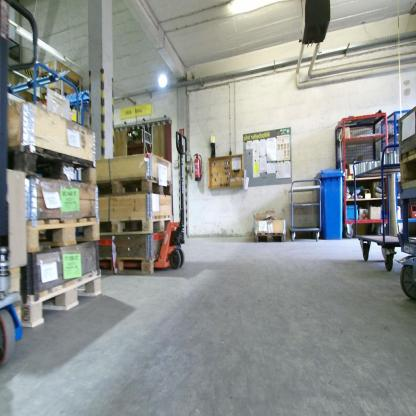pallet: (19, 265, 102, 330), (6, 144, 96, 185), (26, 210, 100, 253), (99, 214, 173, 243), (97, 175, 173, 201), (97, 253, 159, 278), (252, 232, 287, 244)
pallet_truck: (1, 1, 42, 374), (123, 124, 190, 272)
